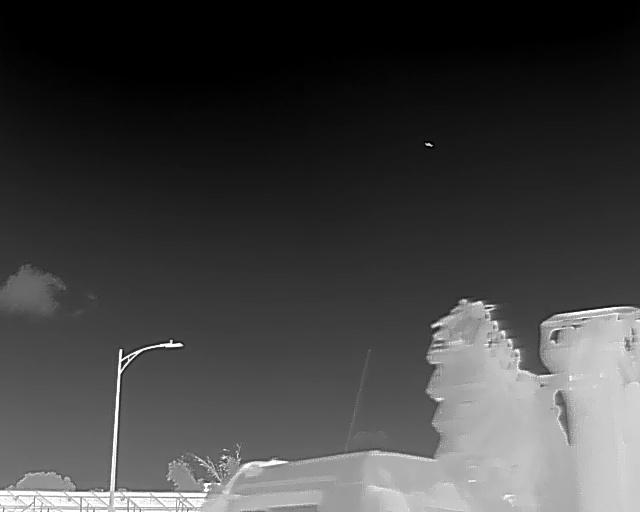fpv-drone: (424, 141, 433, 147)
